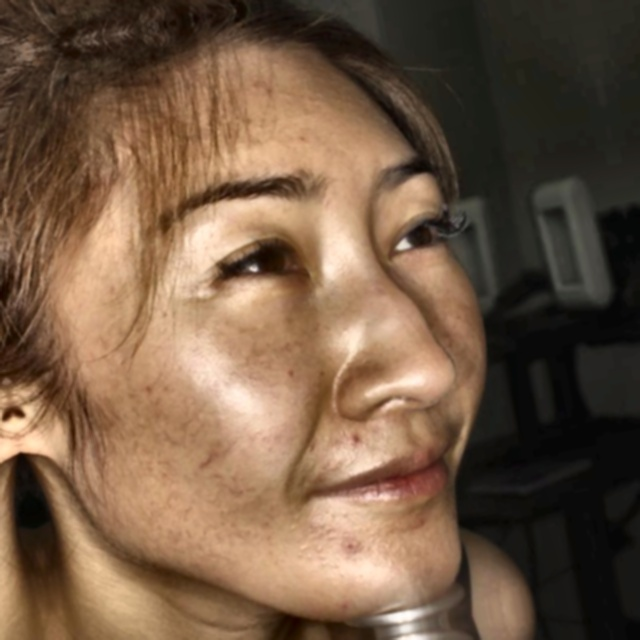comedone: (342, 536, 359, 554), (345, 429, 363, 445)
